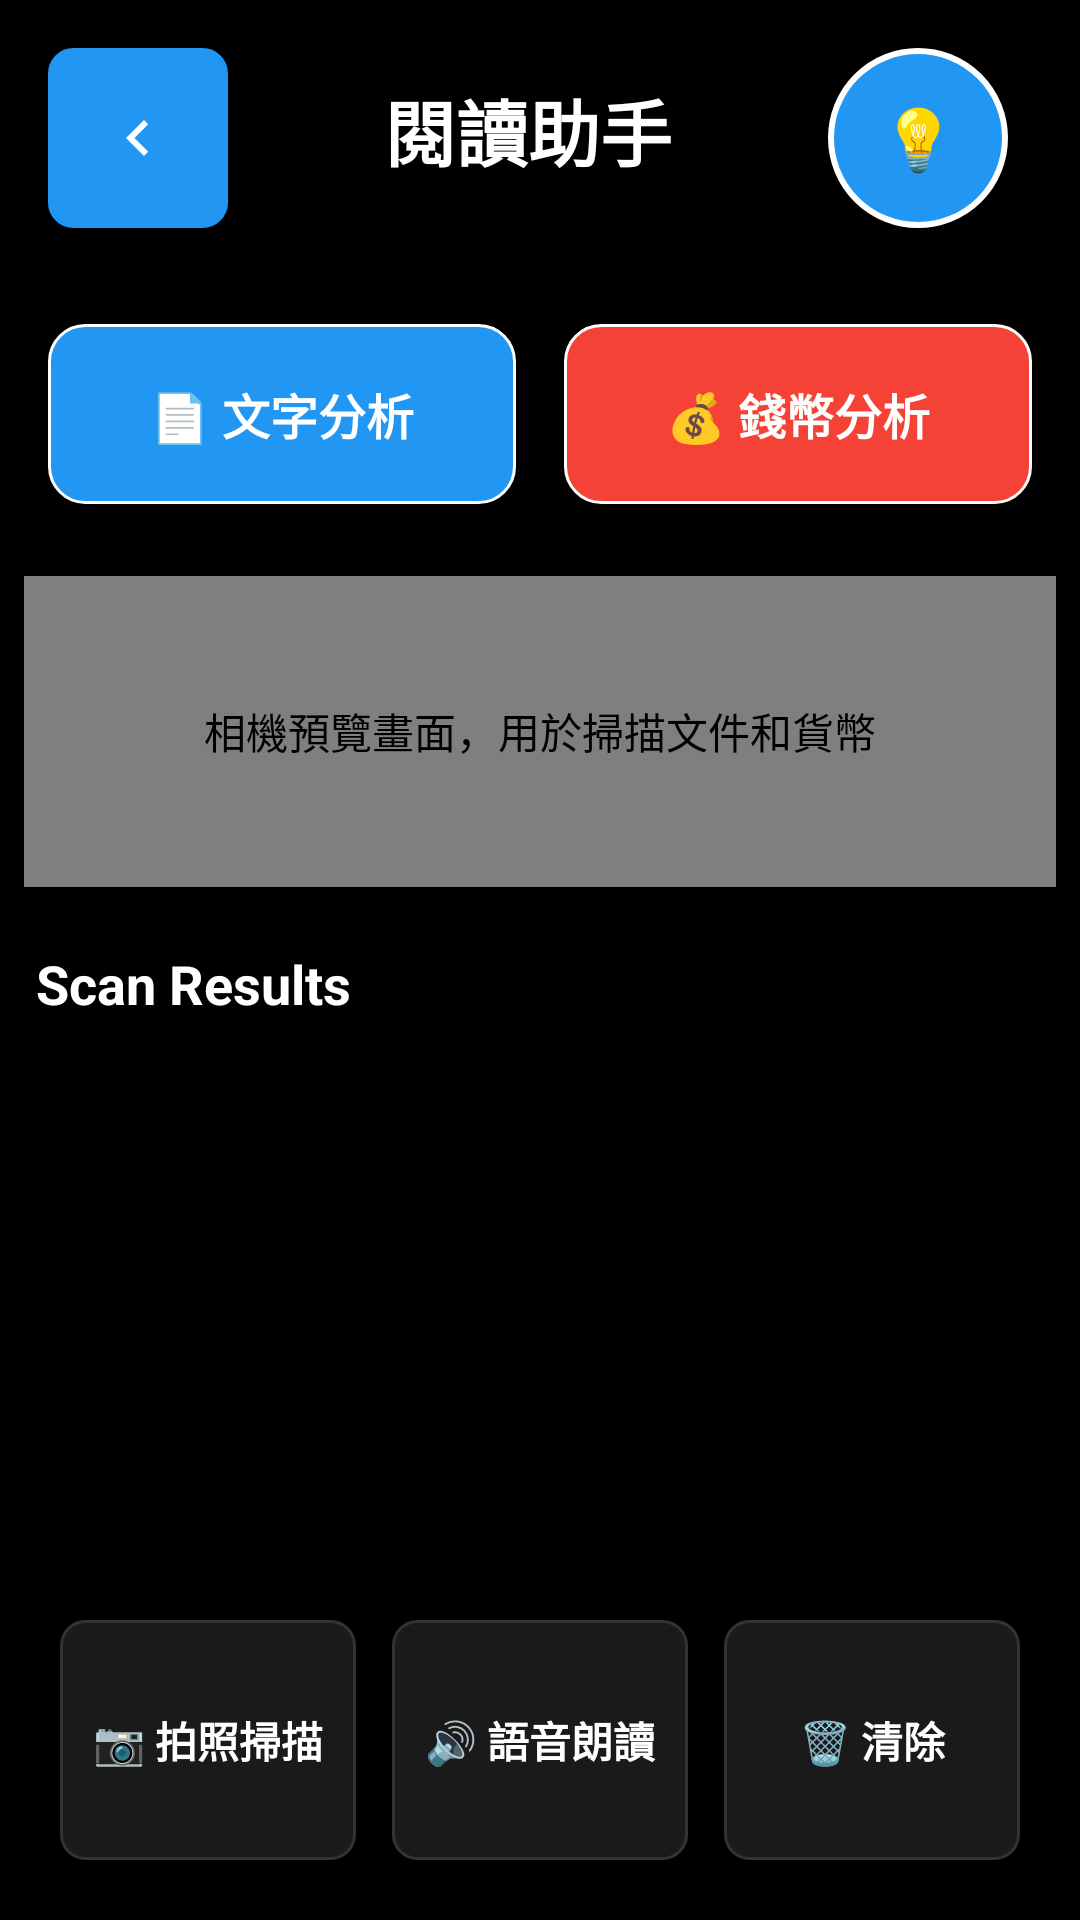

Screen size 1080x1920. Icon name, then its center in pixels as (x,y):
Back to home button: (138,138)
